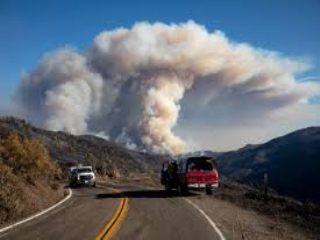smoke: (97, 21, 298, 156), (30, 45, 94, 134)
